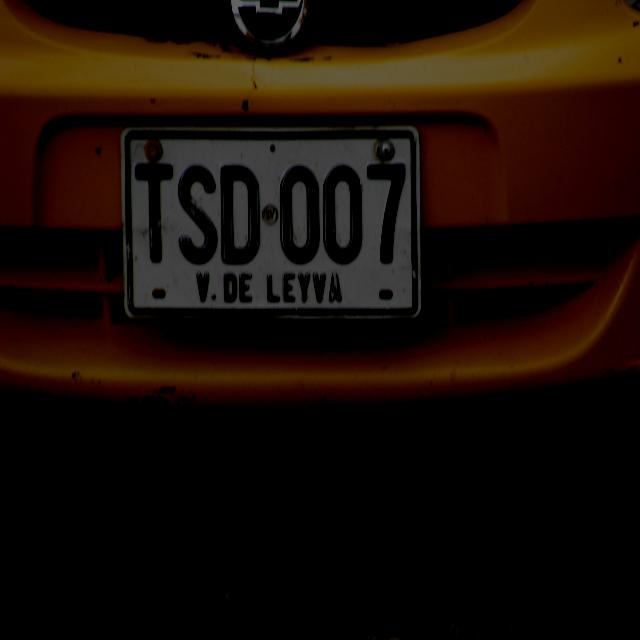placa: (119, 122, 423, 324)
